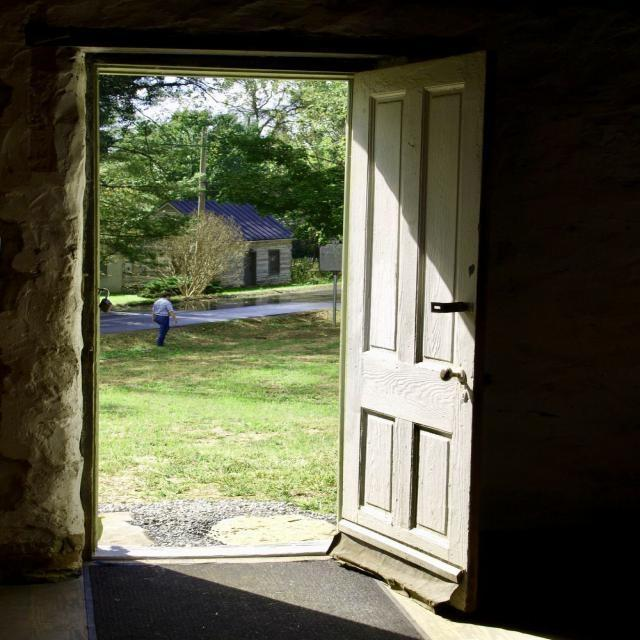door: (334, 49, 486, 591)
